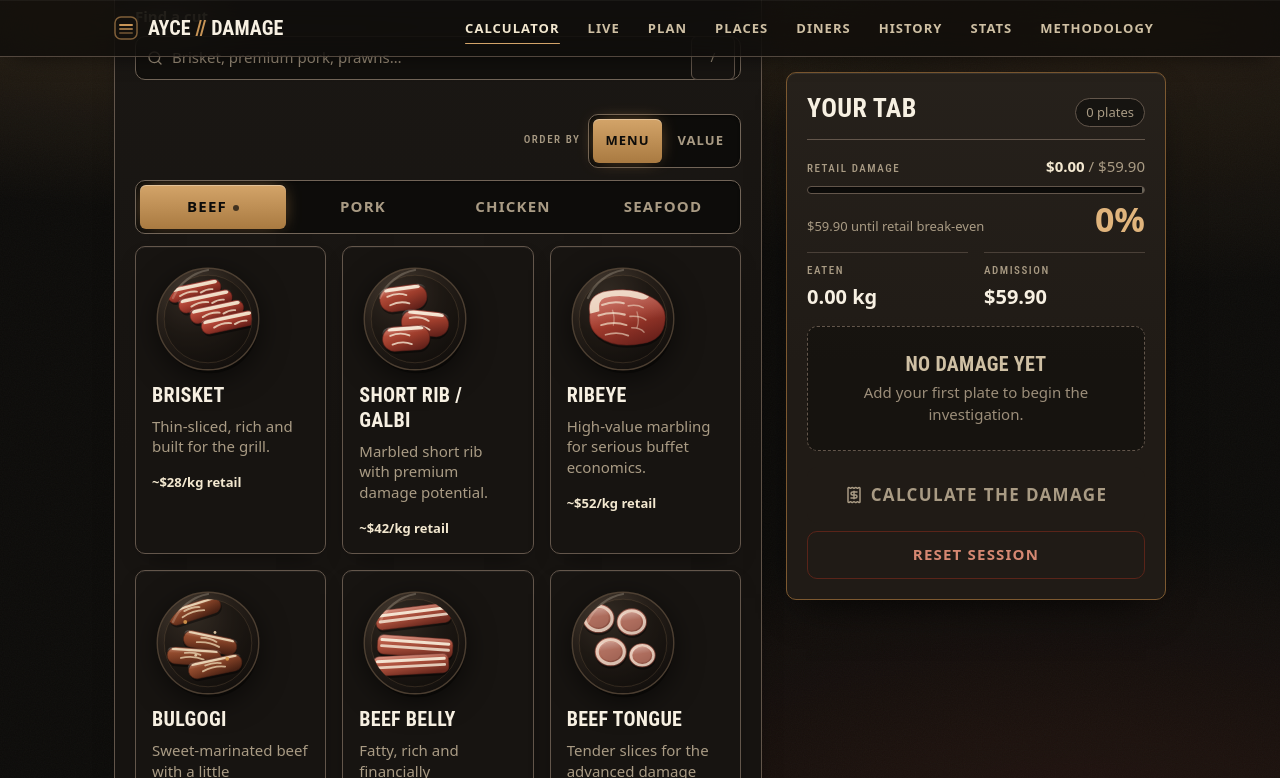
Stage history › clears the report from the URL when the in-app Back control is used
The width and height of the screenshot is (1280, 778).
(page scrolled)
Click the button "Ribeye".
click(645, 400)  # box [550,246,741,554]
(page scrolled)
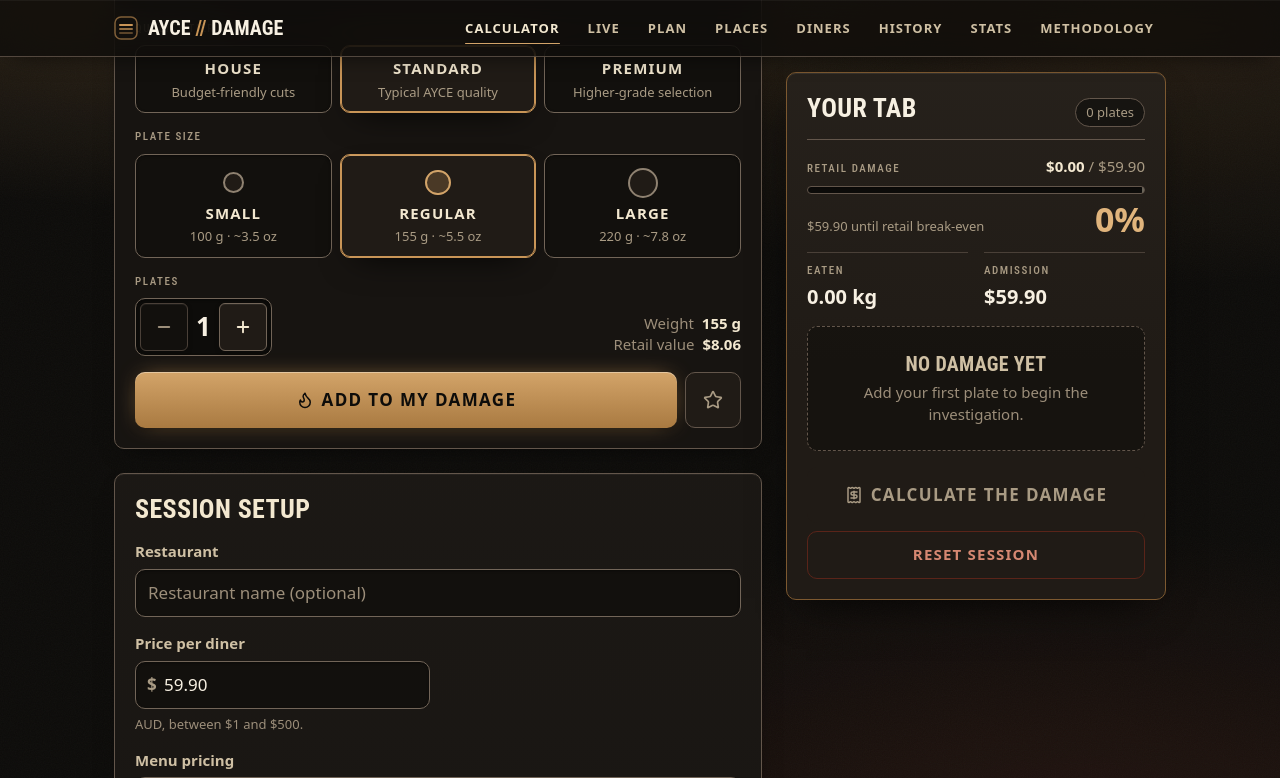
Click the button "Add to my damage".
click(406, 400)  # box [135,372,677,428]
(page scrolled)
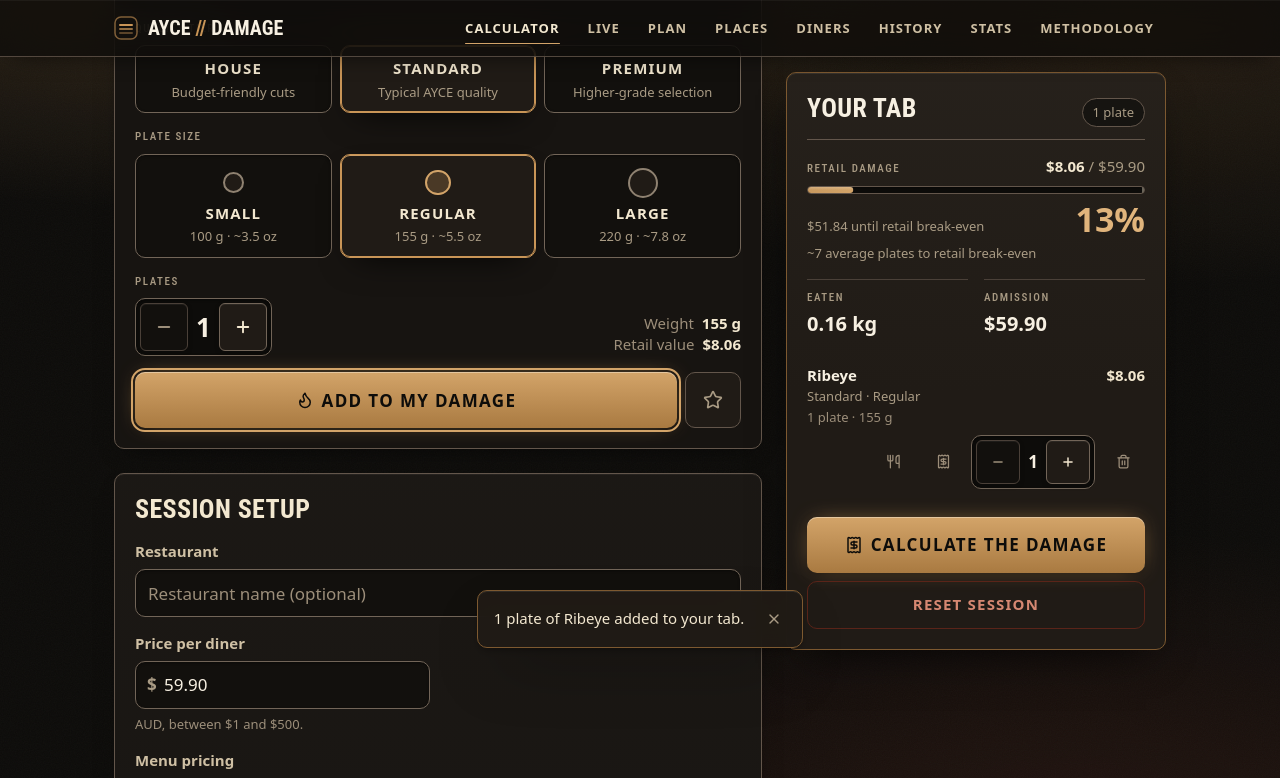
Click the button "Calculate the damage".
click(976, 544)  # box [807,516,1145,572]
(page scrolled)
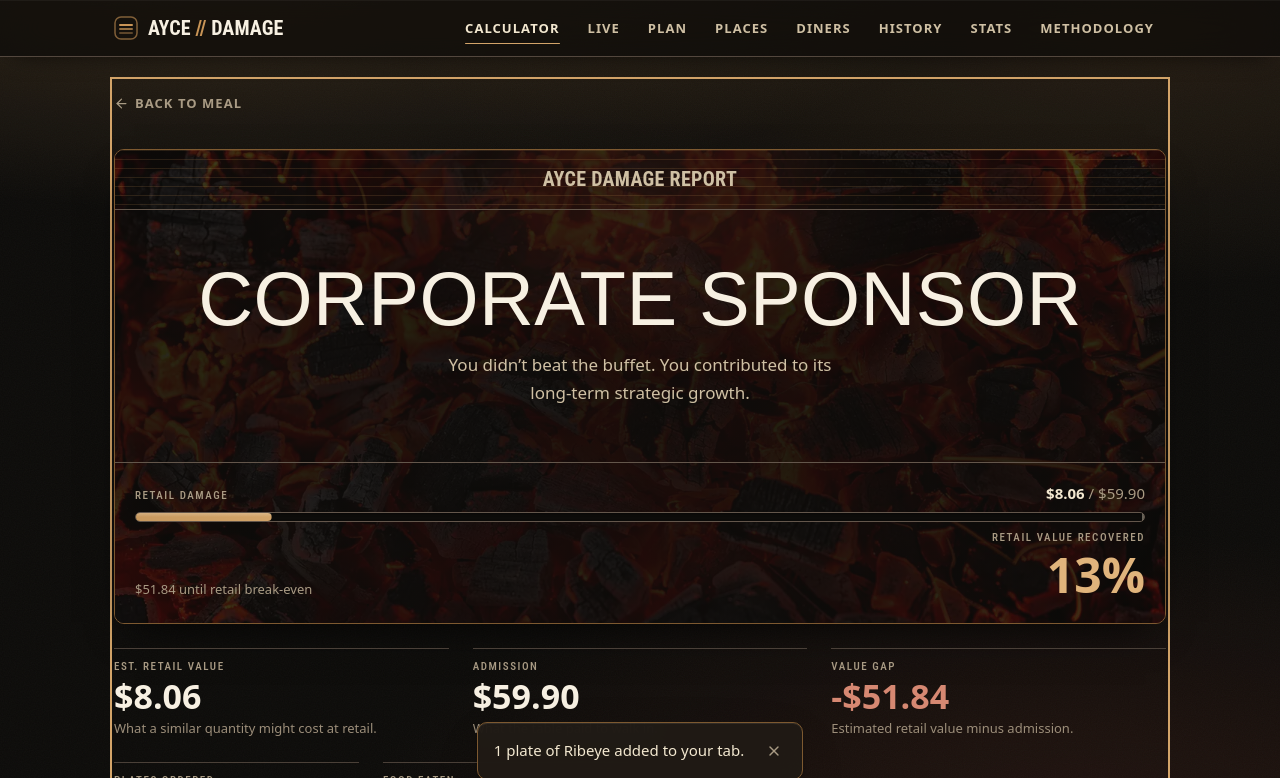
Click the button "Back to meal".
click(178, 103)  # box [106,81,250,125]
(page scrolled)
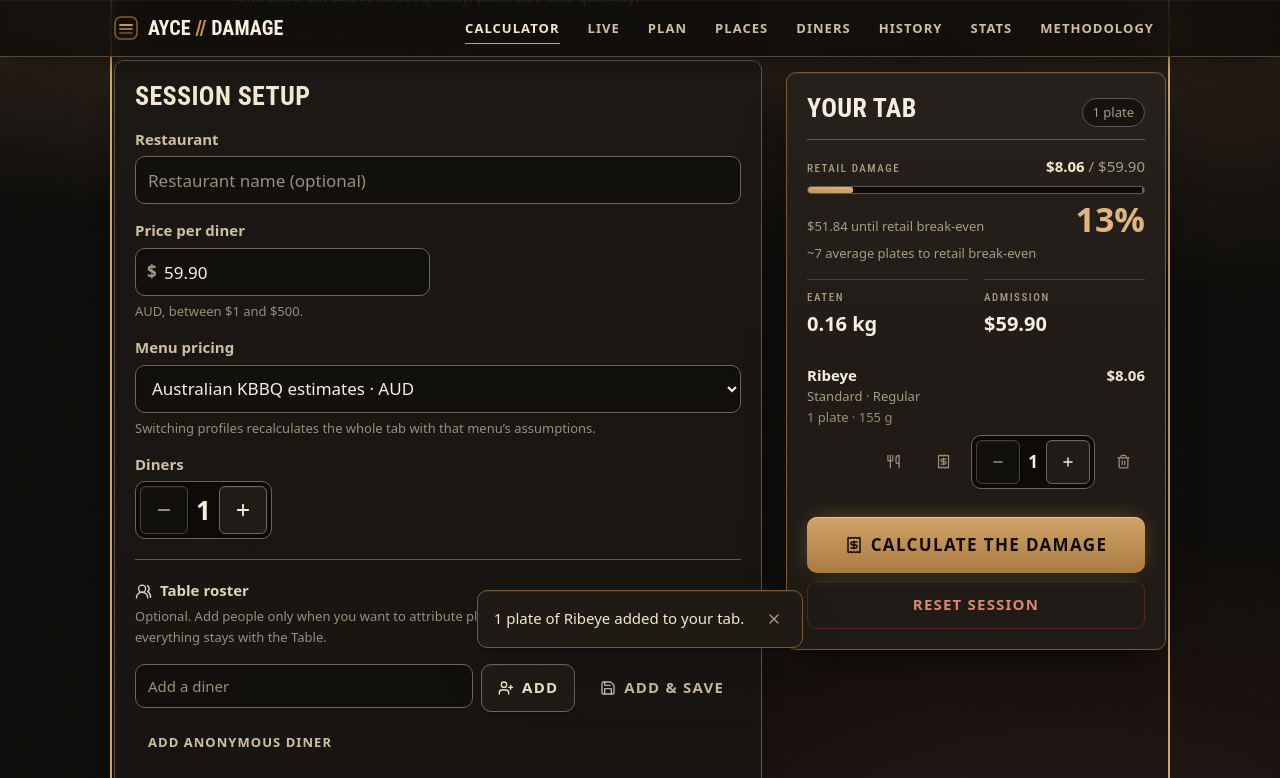
Check: the heading "AYCE Damage Report" is gone
